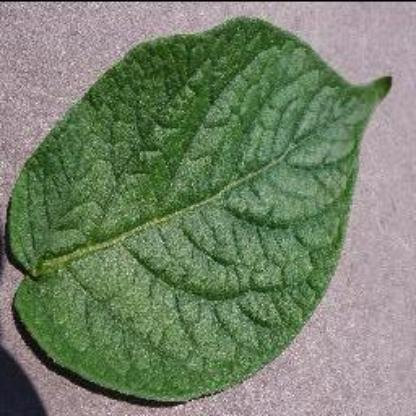Healthy-plant: (0, 16, 382, 406)
